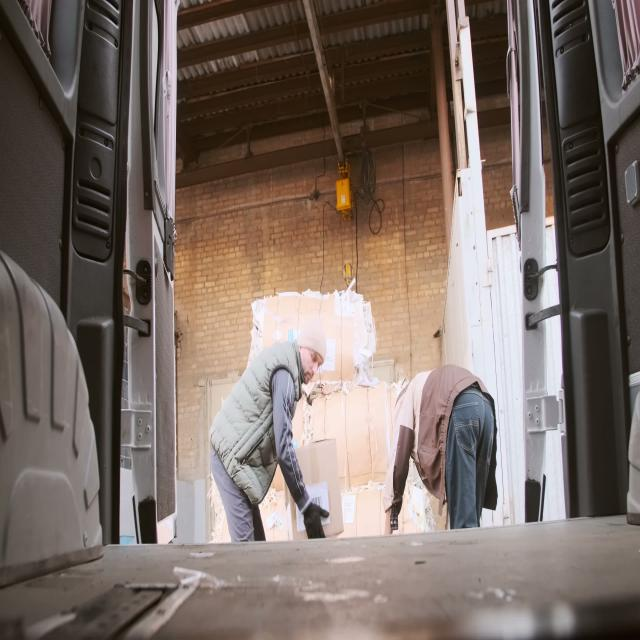counting-the-number-of-boxes: (282, 439, 344, 541)
